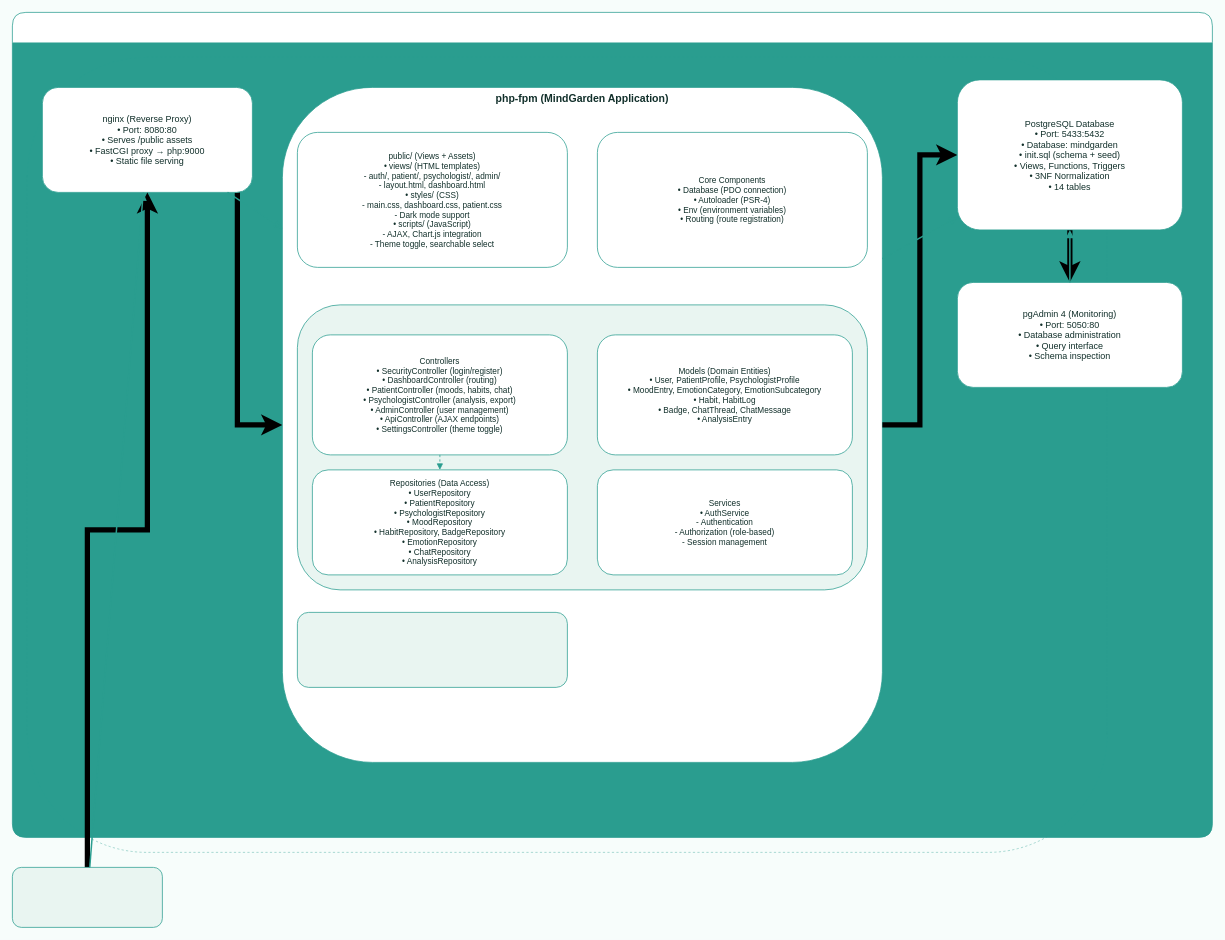
The diagram is 1225 pixels wide and 940 high, and some of its shapes have lost their labels. The shapes that lost their labels are listed below. From the top down, each one's box as (x1, y1, x2, y2) in pixels, then its label:
(297, 304, 867, 590): MVC Application Layer
(297, 612, 567, 687): PHP 8.3 FPM Alpine • index.php + Routing.php • CSV Export • AJAX API Endpoints
(12, 867, 162, 927): Client Browser HTTP/HTTPS Requests AJAX Calls
